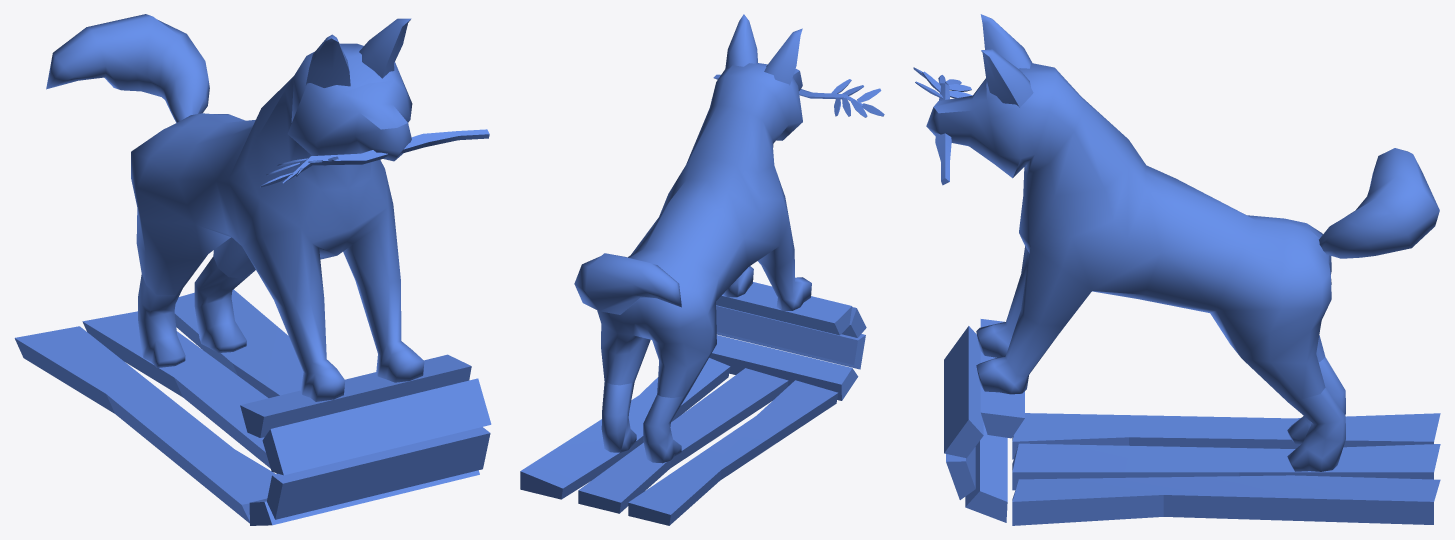
File: godog.glb
3 views of the same model, side by side, from view 1: azimuth 30°, elevation 25°; view 2: azimuth 150°, elevation 25°; view 3: azimuth 270°, elevation 25° (orthographic). The views are drawn at different scales.
Visible parts, largest first — view 1: Dog_Body, DogTail, Ear_Left, Ear_Right; view 2: Dog_Body, DogTail, Ear_Left, Ear_Right; view 3: Dog_Body, DogTail, Ear_Left, Ear_Right.
Part boxes in pixels (box(x1,y1,x2,y2)): Dog_Body: box(14, 43, 491, 525); DogTail: box(46, 14, 209, 122); Ear_Left: box(359, 18, 411, 78); Ear_Right: box(306, 34, 350, 87); Dog_Body: box(520, 63, 884, 525); DogTail: box(574, 253, 681, 314); Ear_Left: box(725, 14, 757, 68); Ear_Right: box(764, 28, 802, 85); Dog_Body: box(913, 63, 1440, 525); DogTail: box(1319, 148, 1439, 258); Ear_Left: box(981, 49, 1033, 107); Ear_Right: box(980, 14, 1032, 68).
Bounding box in the file's own units: 0.3608 × 0.7158 × 0.764.
